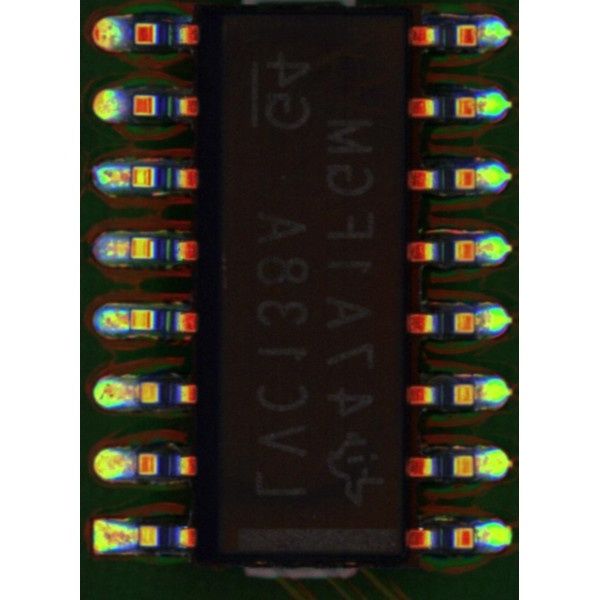Bad_podu: (116, 170, 145, 185), (117, 242, 146, 257), (116, 314, 146, 328), (126, 385, 148, 402)
